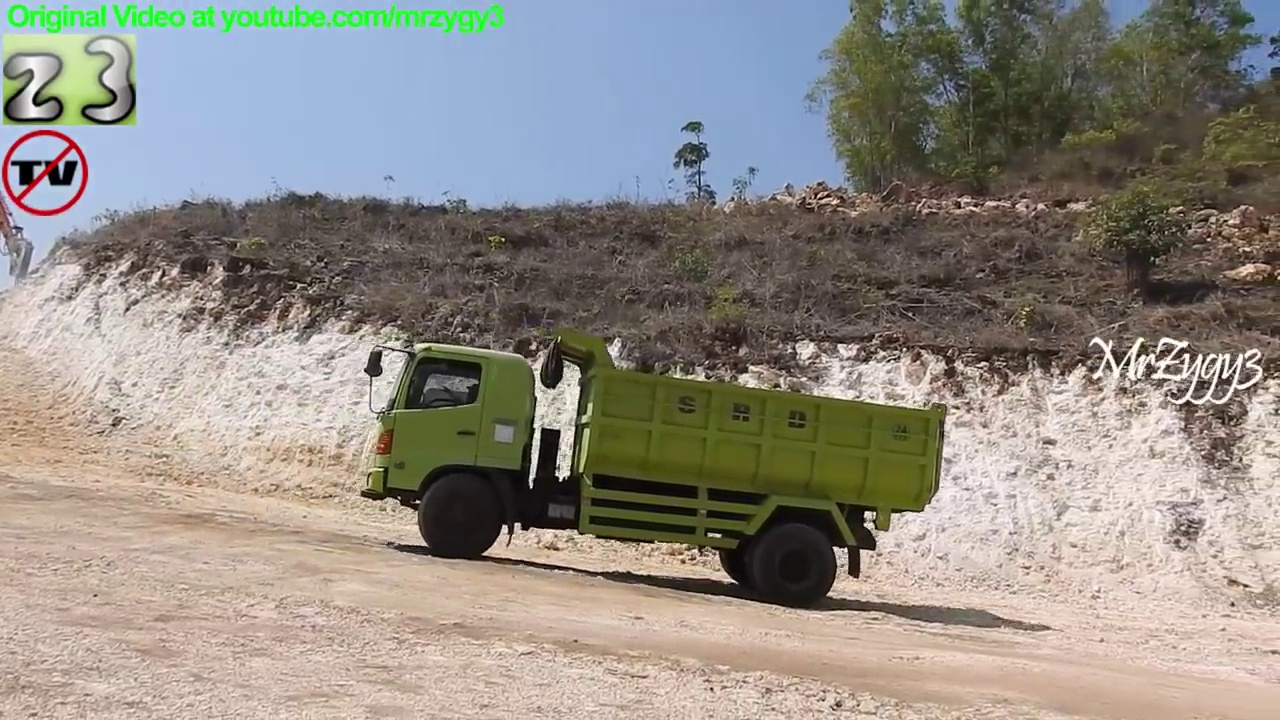excavator: (1, 180, 38, 300)
truck: (351, 324, 957, 616)
